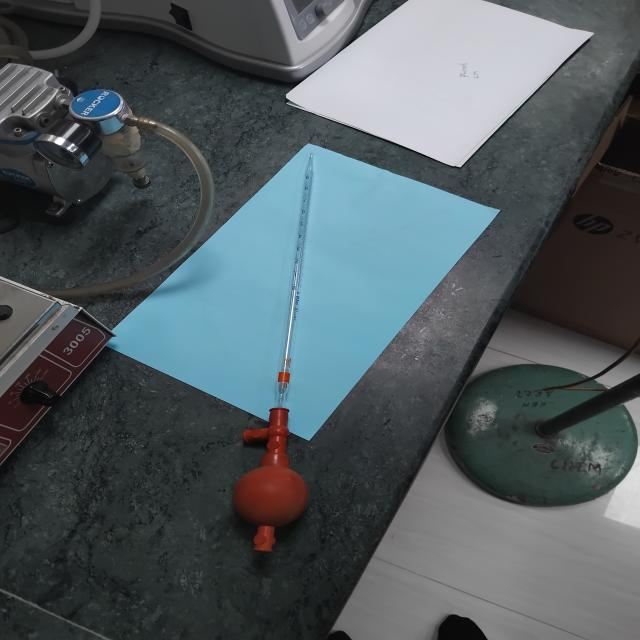Volumetric_Pipet: (211, 119, 357, 589)
